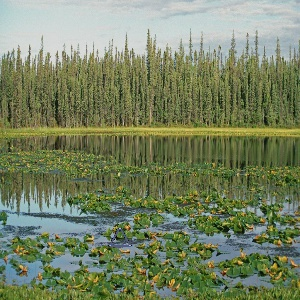triangle: (106, 223, 132, 248)
